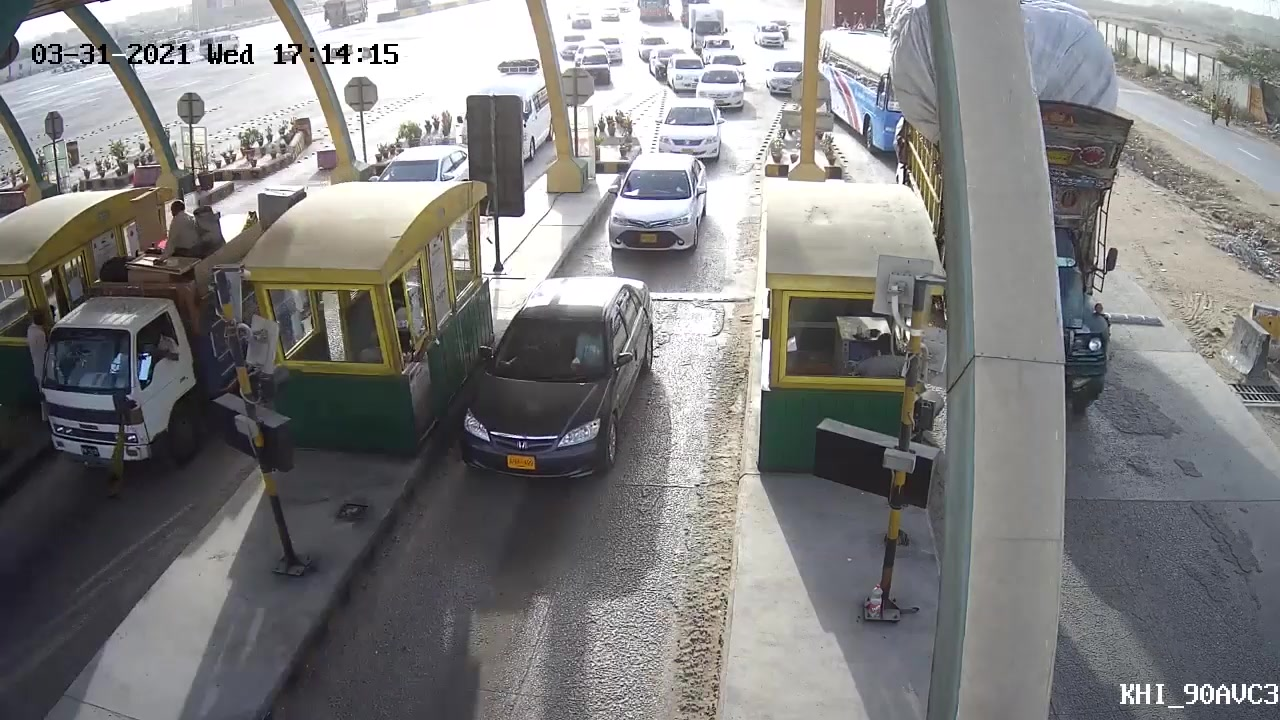F1: (448, 266, 662, 490), (604, 145, 711, 260)
